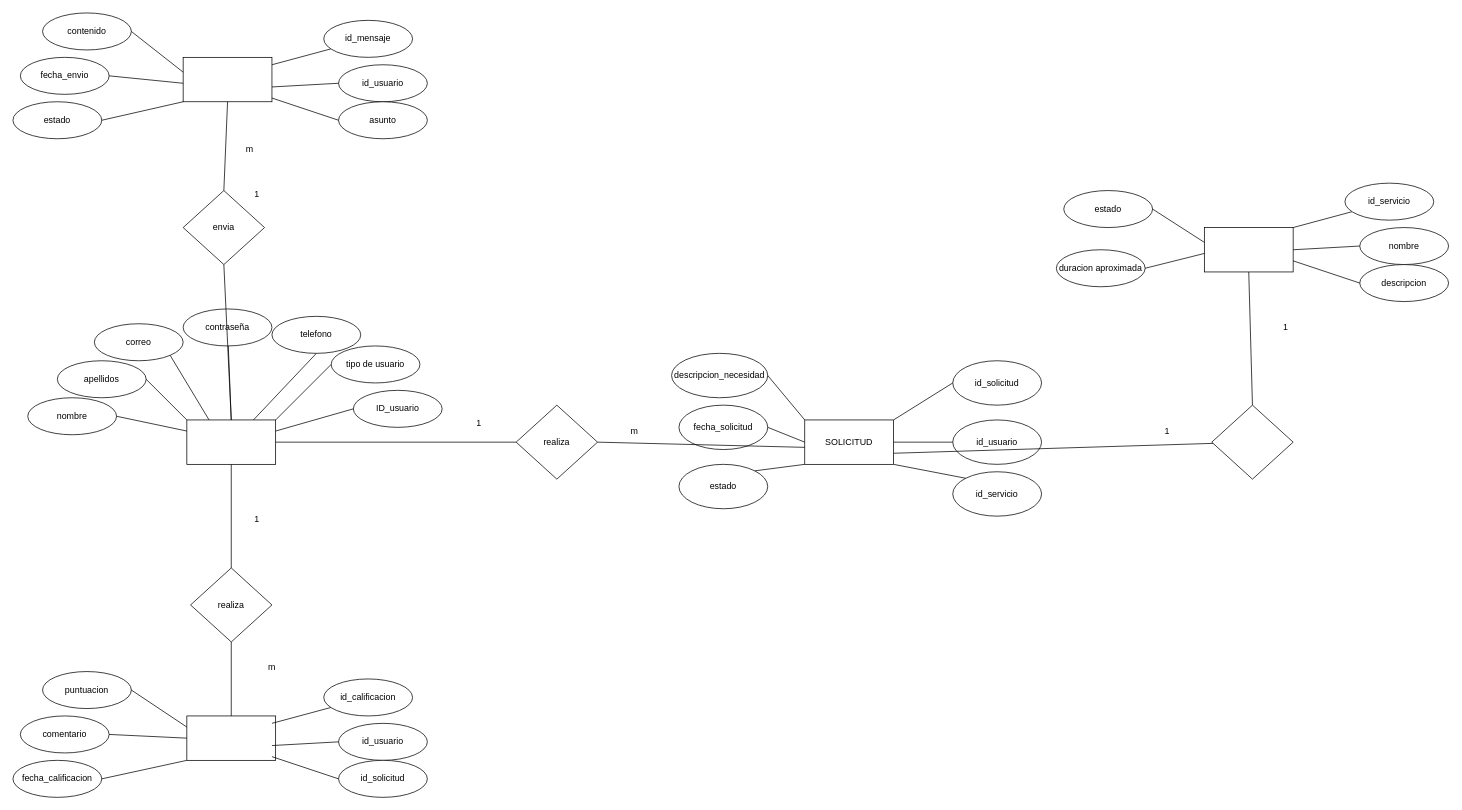
Image size: 1462x810. Some labels were removed from this diagram. The shapes that lost their labels are listed below. From the top down, each one's centre as x and y in pixels, then its label:
At point (227, 79): "MENSAJE".
At point (1248, 249): "SERVICIO".
At point (231, 441): "USUARIO".
At point (1252, 441): "corresponde".
At point (231, 737): "CALIFICACION".
